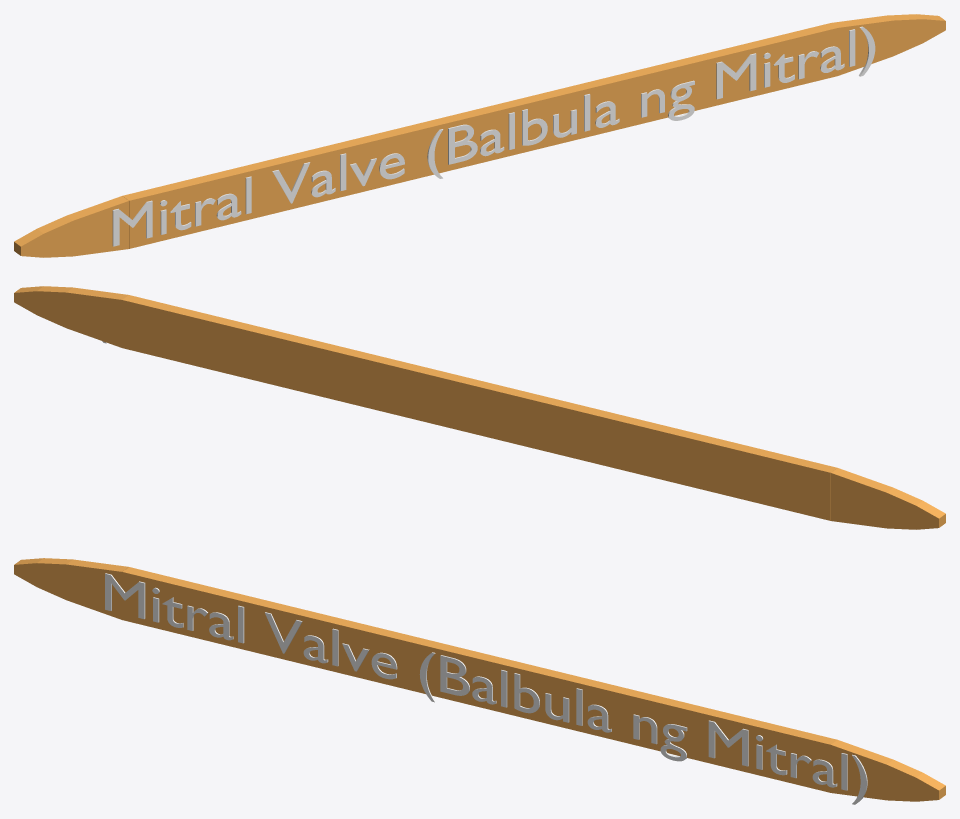
The model's file is txtMitralValve.fbx.
3 views of the same model, one above another, from view 1: azimuth 30°, elevation 25°; view 2: azimuth 150°, elevation 25°; view 3: azimuth 330°, elevation 25° (orthographic).
Parts seen in each view (by area): view 1: TagContainer.107, Text.109; view 2: TagContainer.107; view 3: TagContainer.107, Text.109.
Boxes of the visible parts, left/top/right/bottom form: TagContainer.107: left=14, top=14, right=945, bottom=257; Text.109: left=112, top=26, right=875, bottom=246; TagContainer.107: left=14, top=286, right=945, bottom=529; TagContainer.107: left=14, top=558, right=945, bottom=801; Text.109: left=105, top=573, right=867, bottom=804.
Size of the model in its own units: 830 by 45.81 by 11.84.
